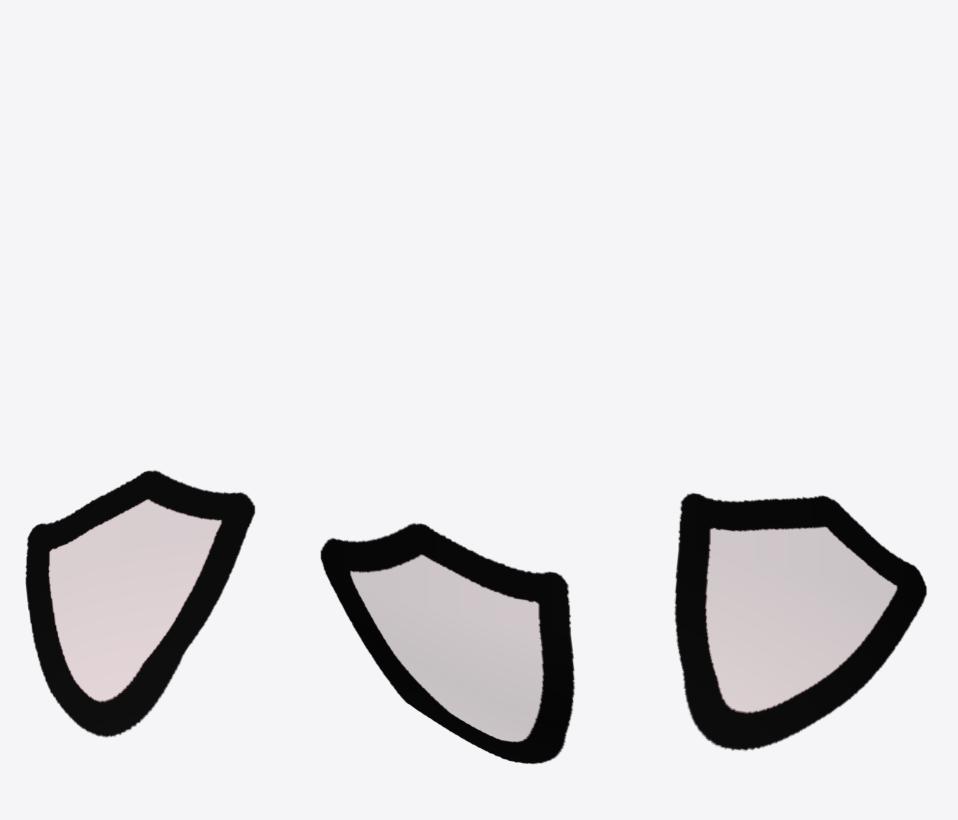
Rendered from 07-Relieved-Face-mouth.glb.
3 views of the same model, side by side, from view 1: azimuth 30°, elevation 25°; view 2: azimuth 150°, elevation 25°; view 3: azimuth 330°, elevation 25° (orthographic). The views are drawn at different scales.
Parts seen in each view (by area): view 1: 07-Relieved-Face-mouth; view 2: 07-Relieved-Face-mouth; view 3: 07-Relieved-Face-mouth.
Part boxes in pixels (x1,y1,x2,y2): 07-Relieved-Face-mouth: (25, 470, 254, 737); 07-Relieved-Face-mouth: (320, 523, 574, 763); 07-Relieved-Face-mouth: (674, 493, 926, 750).
Bounding box in the file's own units: 0.3328 × 0.8568 × 0.1133.
1 material, 1 textured.
